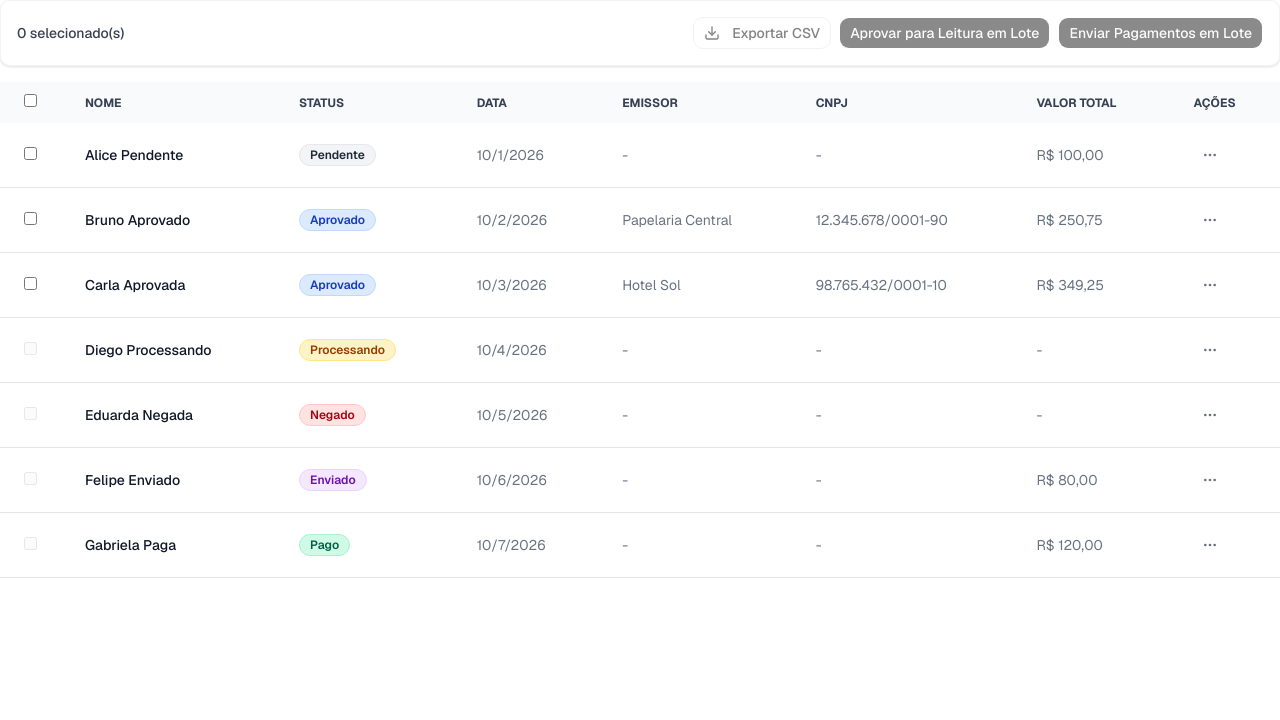
Test case: RequestsTable › Bulk Selection and BatchPaymentDialog › should open BatchPaymentDialog containing only selected APPROVED requests when both PENDING and APPROVED rows are selected and 'Enviar Pagamentos em Lote' is cl
Click the checkbox named "Selecionar solicitação de Alice Pendente".
click(30, 154)  # box [24,147,37,160]
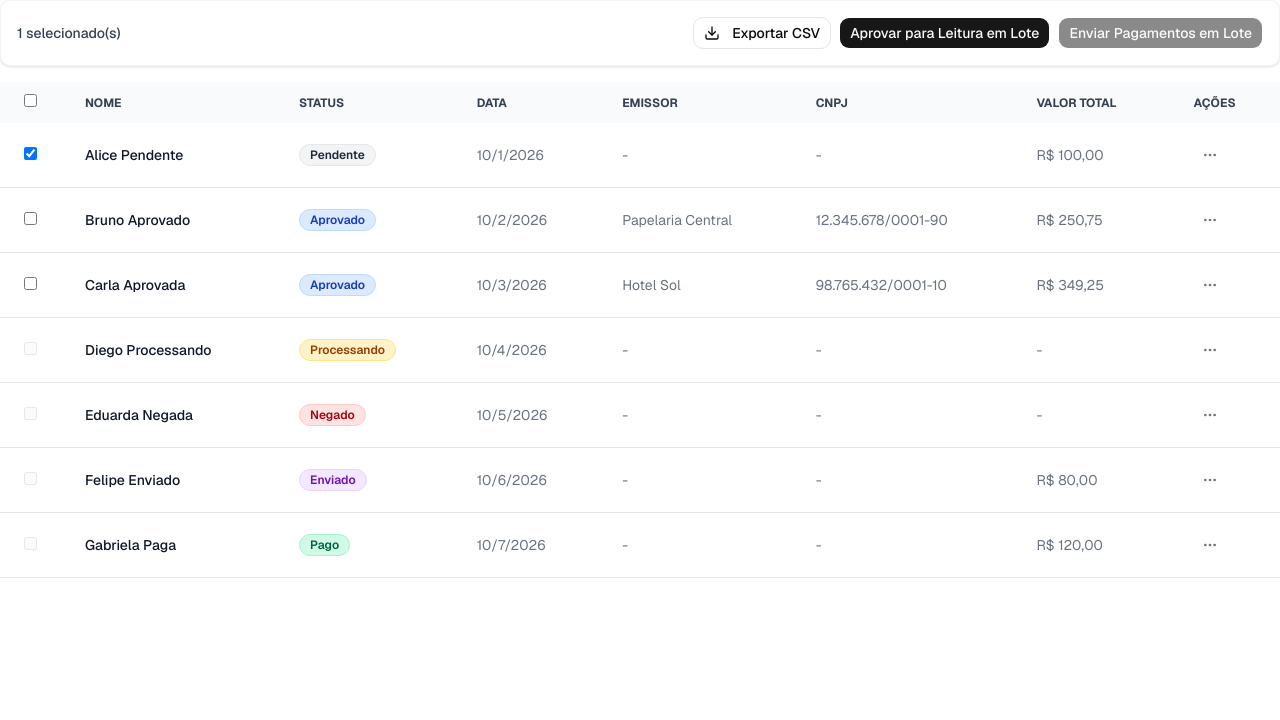
Click the checkbox named "Selecionar solicitação de Bruno Aprovado".
click(30, 218)  # box [24,212,37,225]
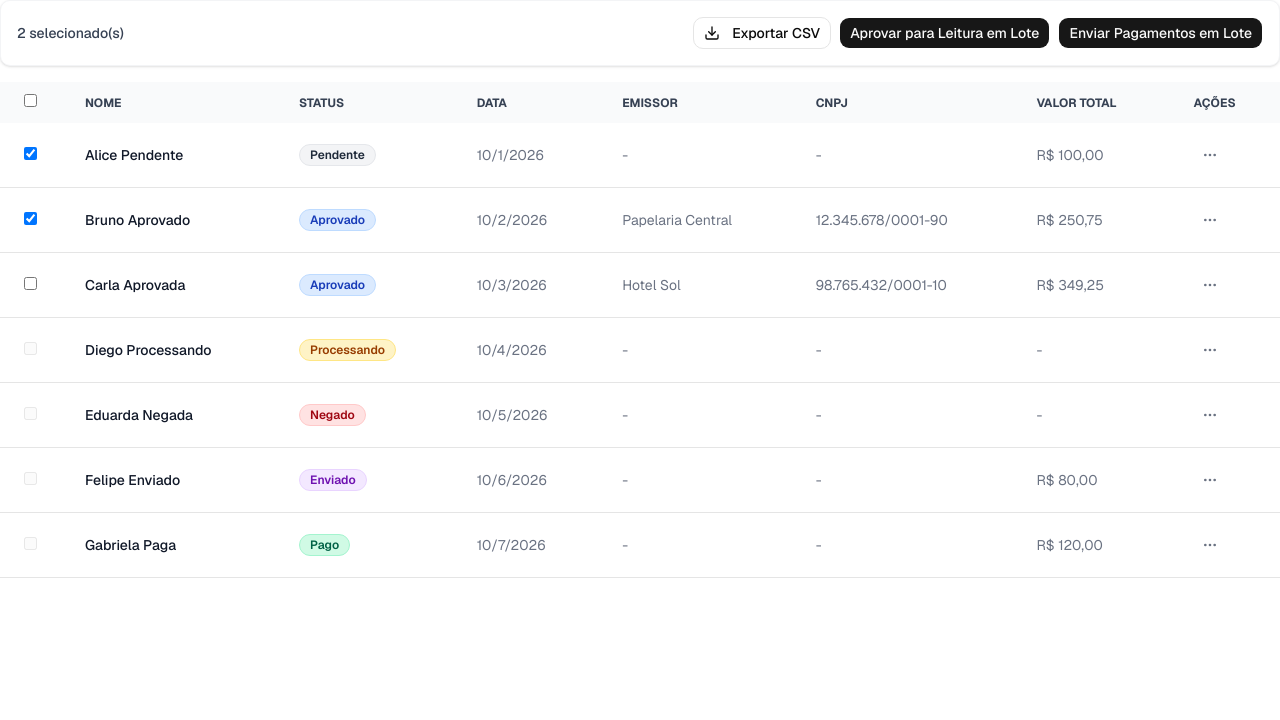
Click the checkbox named "Selecionar solicitação de Carla Aprovada".
click(30, 284)  # box [24,277,37,290]
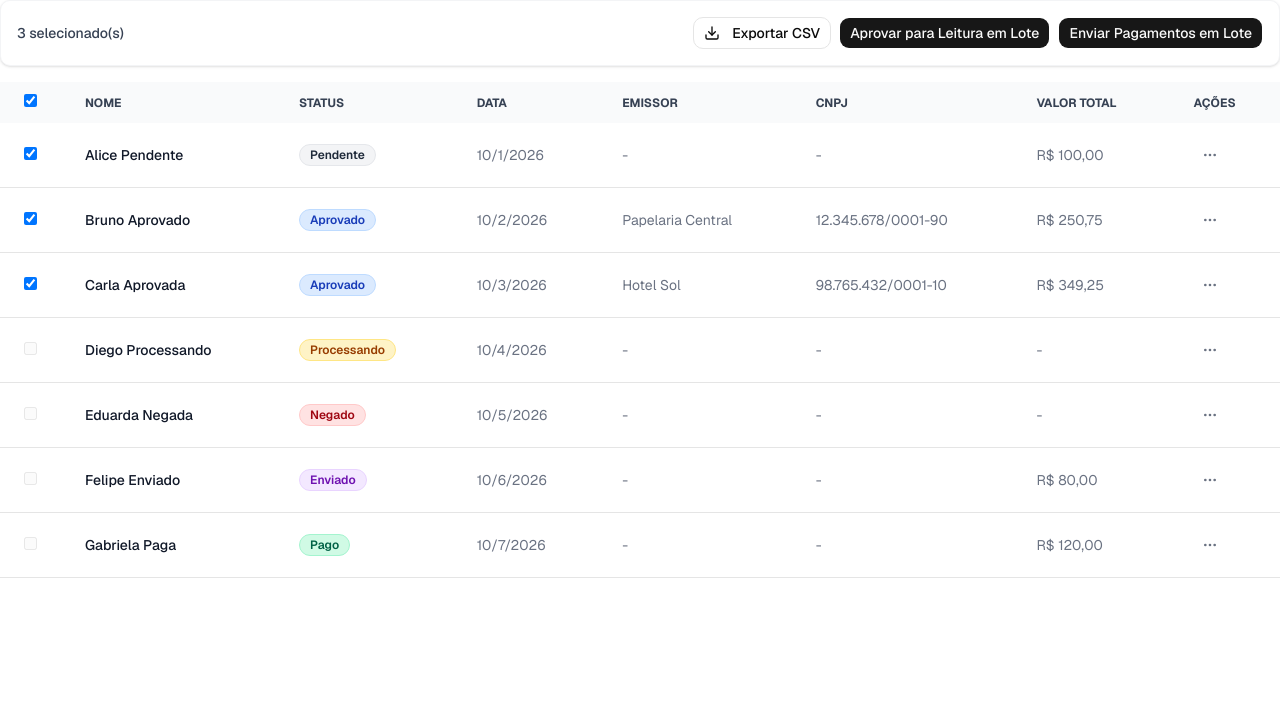
Expected: the text "3 selecionado(s)" is shown, [17,23,124,43]
Click the button "Enviar Pagamentos em Lote".
click(1161, 33)  # box [1058,17,1263,49]
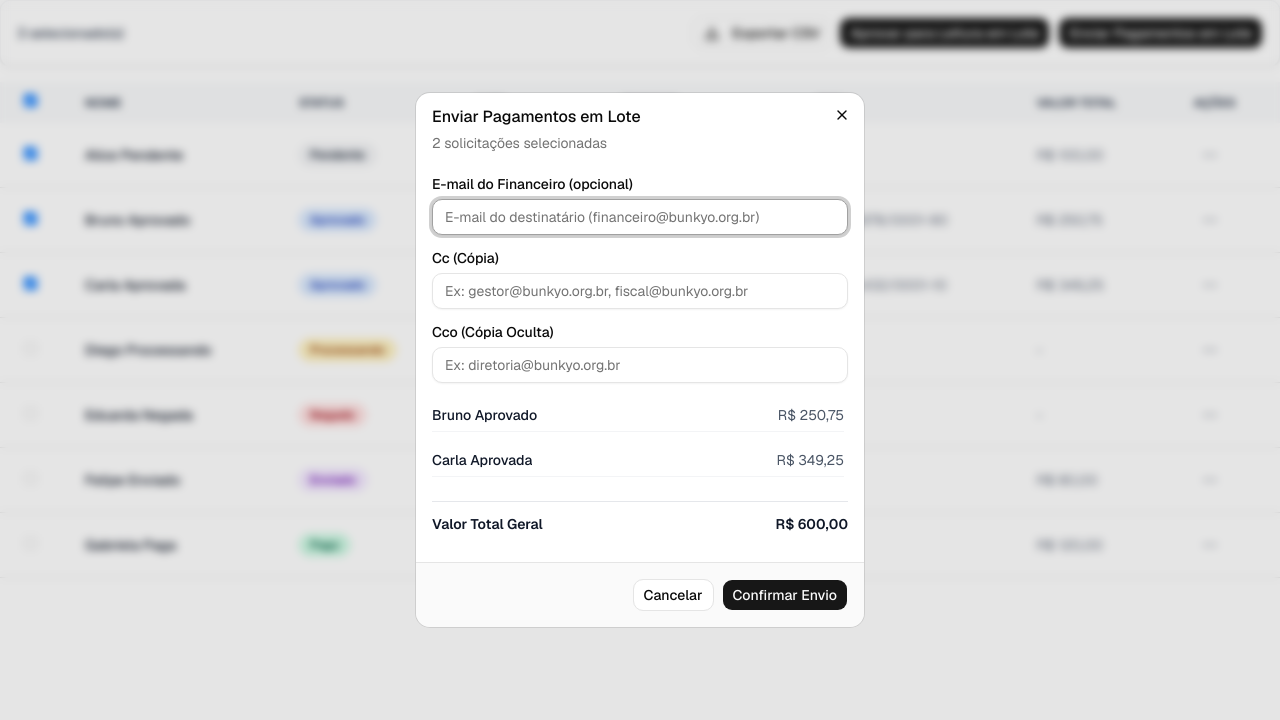
Expected: the dialog is shown, [416,93,864,627]
Expected: the text "2 solicitações selecionadas" is shown, [432,134,607,152]
Expected: the text "R$ 600,00" is shown, [776,514,848,534]
